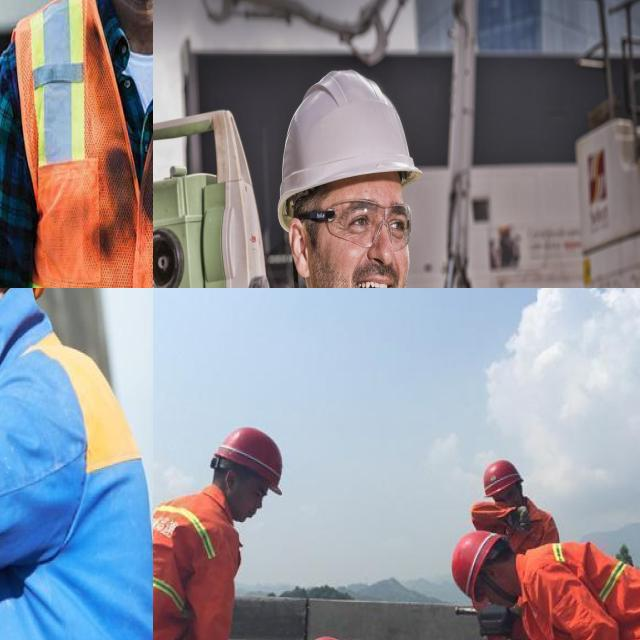No_Ear-Protection: (284, 213, 316, 283), (223, 467, 237, 493), (485, 563, 499, 580)
face_nomask: (307, 173, 418, 288), (219, 470, 273, 532)
glasses: (321, 199, 414, 253)
head_helmet: (278, 66, 423, 203), (213, 415, 290, 495), (442, 522, 514, 605), (478, 444, 525, 500)
person: (262, 62, 517, 288), (0, 0, 153, 288), (153, 444, 290, 640), (457, 430, 561, 640), (472, 524, 640, 640)
vest: (7, 0, 153, 288), (153, 499, 230, 640), (533, 545, 640, 640)
